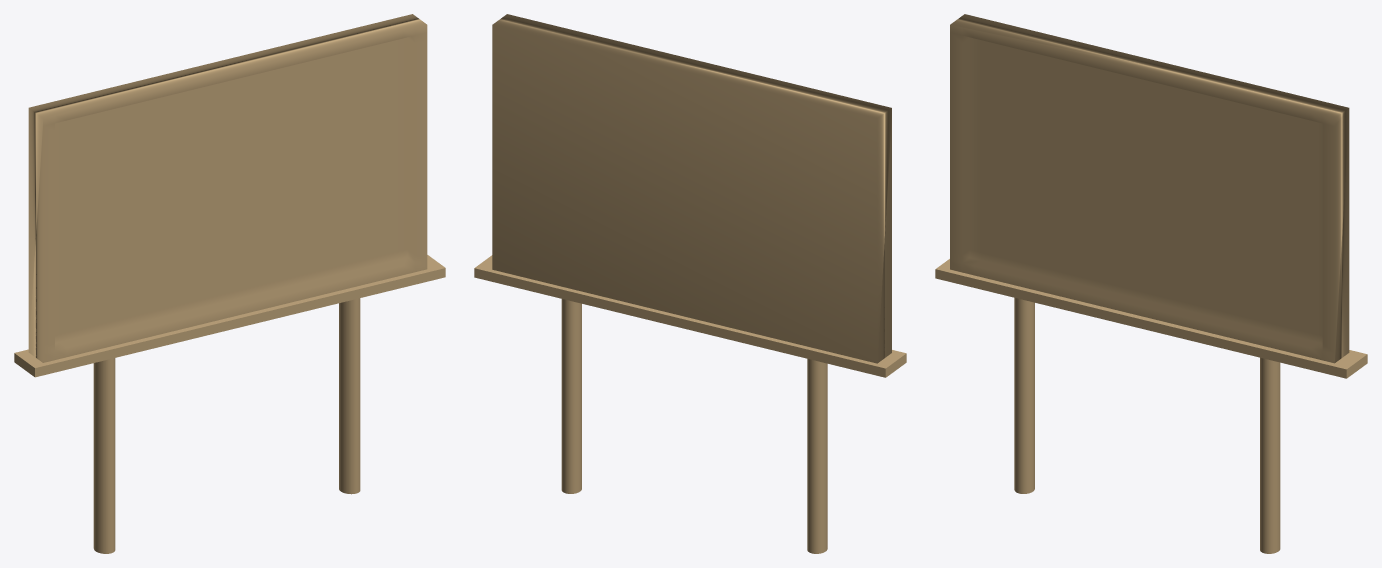
The model's file is billboard3.glb.
3 views of the same model, side by side, from view 1: azimuth 30°, elevation 25°; view 2: azimuth 150°, elevation 25°; view 3: azimuth 330°, elevation 25° (orthographic).
Visible parts, largest first — view 1: Billboard, Platform, Parent.003, Parent.002; view 2: Billboard, Platform, Parent.002, Parent.003; view 3: Billboard, Platform, Parent.003, Parent.002.
Boxes of the visible parts, <box> form: Billboard: <box>28,14,427,362</box>; Platform: <box>14,255,445,377</box>; Parent.003: <box>93,358,115,553</box>; Parent.002: <box>339,298,360,494</box>; Billboard: <box>492,14,891,363</box>; Platform: <box>474,255,906,377</box>; Parent.002: <box>561,299,581,493</box>; Parent.003: <box>807,359,827,553</box>; Billboard: <box>950,14,1349,363</box>; Platform: <box>935,259,1367,378</box>; Parent.003: <box>1014,297,1034,493</box>; Parent.002: <box>1260,357,1280,553</box>.
Bounding box in the file's own units: 13.52 × 14.22 × 1.19.
